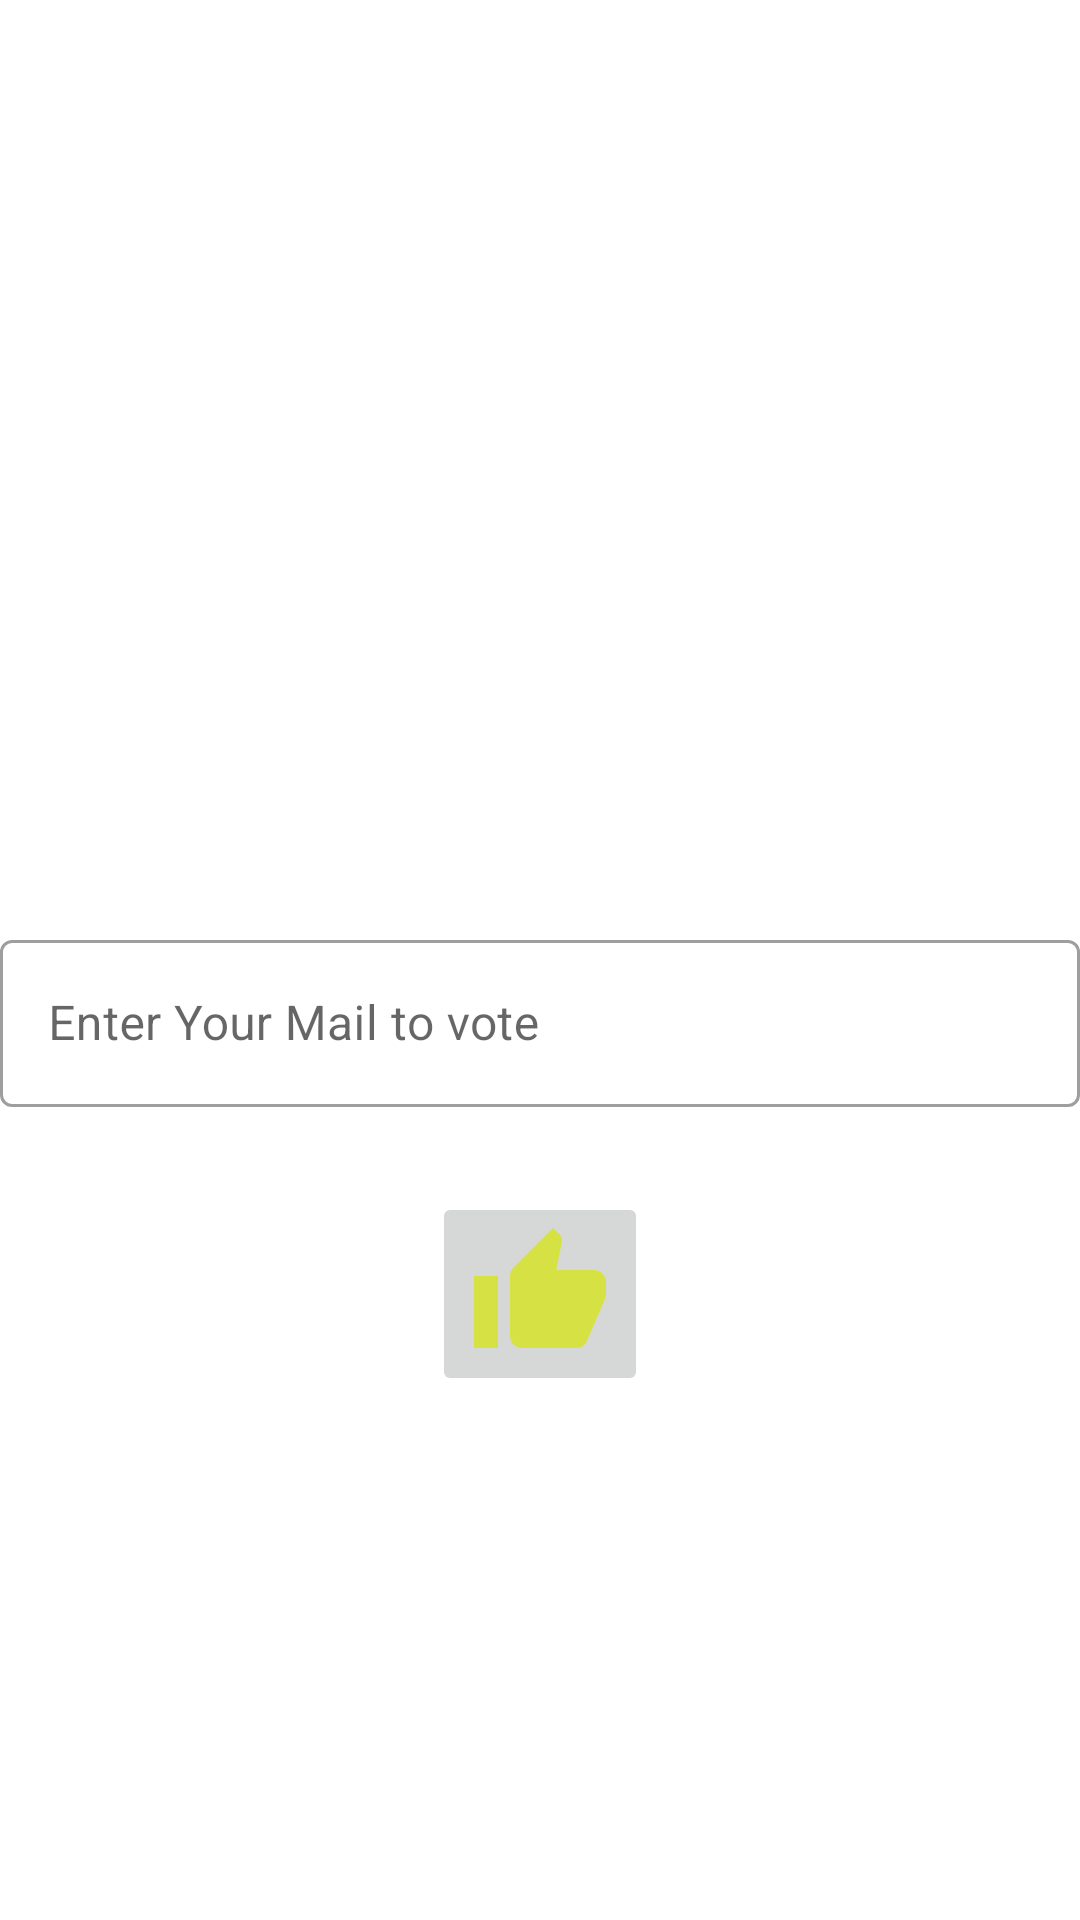

Screen size 1080 × 1920. Icon name, then its center in pixels as (x=x, y=y):
Like Button: (x=540, y=1294)
